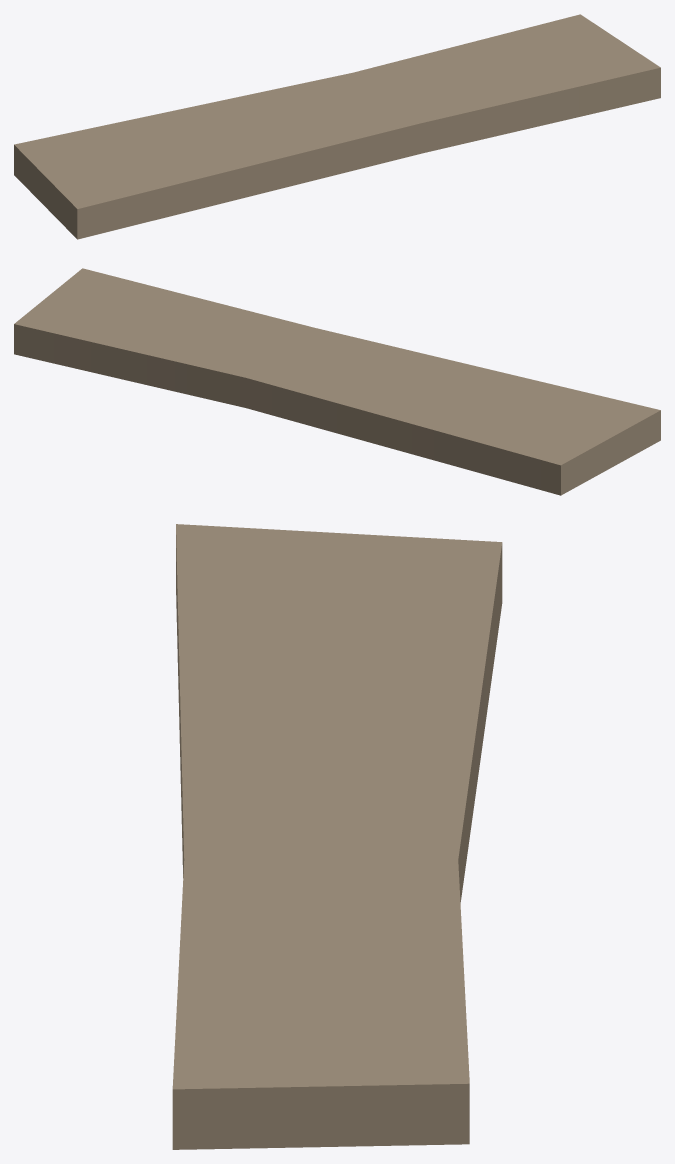
Rendered from Planche_2.fbx.
3 views of the same model, one above another, from view 1: azimuth 30°, elevation 25°; view 2: azimuth 150°, elevation 25°; view 3: azimuth 270°, elevation 25° (orthographic). The views are drawn at different scales.
Parts seen in each view (by area): view 1: Planche; view 2: Planche; view 3: Planche.
Part boxes in pixels (x1,y1,x2,y2): Planche: (14, 14, 660, 239); Planche: (14, 268, 660, 495); Planche: (172, 524, 502, 1149).
Size of the model in its own units: 83.77 by 4.18 by 20.65.
